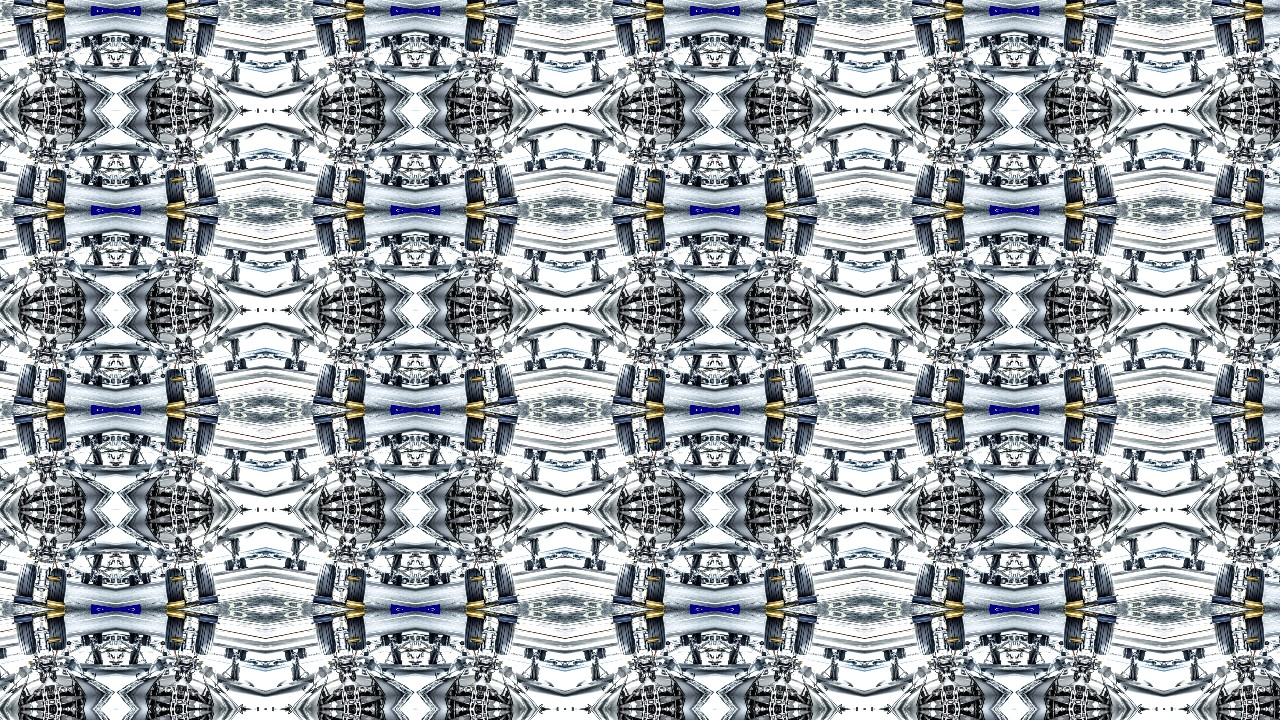chock: (45, 0, 66, 10), (164, 0, 185, 10), (345, 0, 366, 10), (464, 0, 485, 10), (645, 0, 666, 10), (764, 0, 785, 10), (945, 0, 966, 10), (1064, 0, 1085, 10), (1245, 0, 1266, 10), (45, 10, 66, 20), (164, 10, 185, 20), (345, 10, 366, 20), (464, 10, 485, 20), (645, 10, 666, 20), (764, 10, 785, 20), (945, 10, 966, 20), (1064, 10, 1085, 20), (1245, 10, 1266, 20), (45, 200, 66, 210), (164, 200, 185, 210), (345, 200, 366, 210), (464, 200, 485, 210), (645, 200, 666, 210), (764, 200, 785, 210), (945, 200, 966, 210), (1064, 200, 1085, 210), (1245, 200, 1266, 210), (45, 210, 66, 220), (164, 210, 185, 220), (345, 210, 366, 220), (464, 210, 485, 220), (645, 210, 666, 220), (764, 210, 785, 220), (945, 210, 966, 220), (1064, 210, 1085, 220), (1245, 210, 1266, 220), (45, 400, 66, 410), (164, 400, 185, 410), (345, 400, 366, 410), (464, 400, 485, 410), (645, 400, 666, 410), (764, 400, 785, 410), (945, 400, 966, 410), (1064, 400, 1085, 410), (1245, 400, 1266, 410), (45, 410, 66, 420), (164, 410, 185, 420), (345, 410, 366, 420), (464, 410, 485, 420), (645, 410, 666, 420), (764, 410, 785, 420), (945, 410, 966, 420), (1064, 410, 1085, 420), (1245, 410, 1266, 420), (45, 600, 66, 610), (164, 600, 185, 610), (345, 600, 366, 610), (464, 600, 485, 610), (645, 600, 666, 610), (764, 600, 785, 610), (945, 600, 966, 610), (1064, 600, 1085, 610), (1245, 600, 1266, 610), (45, 610, 66, 620), (164, 610, 185, 620), (345, 610, 366, 620), (464, 610, 485, 620), (645, 610, 666, 620), (764, 610, 785, 620), (945, 610, 966, 620), (1064, 610, 1085, 620), (1245, 610, 1266, 620), (12, 15, 32, 25), (198, 15, 218, 25), (312, 15, 332, 25), (498, 15, 518, 25), (612, 15, 632, 25), (798, 15, 818, 25), (912, 15, 932, 25), (1098, 15, 1118, 25), (1212, 15, 1232, 25), (12, 195, 32, 205), (198, 195, 218, 205), (312, 195, 332, 205), (498, 195, 518, 205), (612, 195, 632, 205), (798, 195, 818, 205), (912, 195, 932, 205), (1098, 195, 1118, 205), (1212, 195, 1232, 205), (12, 215, 32, 225), (198, 215, 218, 225), (312, 215, 332, 225), (498, 215, 518, 225), (612, 215, 632, 225), (798, 215, 818, 225), (912, 215, 932, 225), (1098, 215, 1118, 225), (1212, 215, 1232, 225), (12, 395, 32, 405), (198, 395, 218, 405), (312, 395, 332, 405), (498, 395, 518, 405), (612, 395, 632, 405), (798, 395, 818, 405), (912, 395, 932, 405), (1098, 395, 1118, 405), (1212, 395, 1232, 405), (12, 415, 32, 425), (198, 415, 218, 425), (312, 415, 332, 425), (498, 415, 518, 425), (612, 415, 632, 425), (798, 415, 818, 425), (912, 415, 932, 425), (1098, 415, 1118, 425), (1212, 415, 1232, 425), (12, 595, 32, 605), (198, 595, 218, 605), (312, 595, 332, 605), (498, 595, 518, 605), (612, 595, 632, 605), (798, 595, 818, 605), (912, 595, 932, 605), (1098, 595, 1118, 605), (1212, 595, 1232, 605), (12, 615, 32, 625), (198, 615, 218, 625), (312, 615, 332, 625), (498, 615, 518, 625), (612, 615, 632, 625), (798, 615, 818, 625), (912, 615, 932, 625), (1098, 615, 1118, 625), (1212, 615, 1232, 625), (12, 0, 32, 5), (198, 0, 218, 5), (312, 0, 332, 5), (498, 0, 518, 5), (612, 0, 632, 5), (798, 0, 818, 5), (912, 0, 932, 5), (1098, 0, 1118, 5), (1212, 0, 1232, 5), (46, 37, 60, 44), (170, 37, 184, 44), (346, 37, 360, 44), (470, 37, 484, 44), (646, 37, 660, 44), (770, 37, 784, 44), (946, 37, 960, 44), (1070, 37, 1084, 44), (1246, 37, 1260, 44), (46, 176, 60, 183), (170, 176, 184, 183), (346, 176, 360, 183), (470, 176, 484, 183), (646, 176, 660, 183), (770, 176, 784, 183), (946, 176, 960, 183), (1070, 176, 1084, 183), (1246, 176, 1260, 183), (46, 237, 60, 244), (170, 237, 184, 244), (346, 237, 360, 244), (470, 237, 484, 244), (646, 237, 660, 244), (770, 237, 784, 244), (946, 237, 960, 244), (1070, 237, 1084, 244), (1246, 237, 1260, 244), (46, 376, 60, 383), (170, 376, 184, 383), (346, 376, 360, 383), (470, 376, 484, 383), (646, 376, 660, 383), (770, 376, 784, 383), (946, 376, 960, 383), (1070, 376, 1084, 383), (1246, 376, 1260, 383), (46, 437, 60, 444), (170, 437, 184, 444), (346, 437, 360, 444), (470, 437, 484, 444), (646, 437, 660, 444), (770, 437, 784, 444), (946, 437, 960, 444), (1070, 437, 1084, 444), (1246, 437, 1260, 444), (46, 576, 60, 583), (170, 576, 184, 583), (346, 576, 360, 583), (470, 576, 484, 583), (646, 576, 660, 583), (770, 576, 784, 583), (946, 576, 960, 583), (1070, 576, 1084, 583), (1246, 576, 1260, 583), (46, 637, 60, 644), (170, 637, 184, 644), (346, 637, 360, 644), (470, 637, 484, 644), (646, 637, 660, 644), (770, 637, 784, 644), (946, 637, 960, 644), (1070, 637, 1084, 644), (1246, 637, 1260, 644), (240, 50, 248, 53), (282, 50, 290, 53), (540, 50, 548, 53), (582, 50, 590, 53), (840, 50, 848, 53), (882, 50, 890, 53), (1140, 50, 1148, 53), (1182, 50, 1190, 53), (240, 167, 248, 170), (282, 167, 290, 170), (540, 167, 548, 170), (582, 167, 590, 170), (840, 167, 848, 170), (882, 167, 890, 170), (1140, 167, 1148, 170), (1182, 167, 1190, 170), (240, 250, 248, 253), (282, 250, 290, 253), (540, 250, 548, 253), (582, 250, 590, 253), (840, 250, 848, 253), (882, 250, 890, 253), (1140, 250, 1148, 253), (1182, 250, 1190, 253), (240, 367, 248, 370), (282, 367, 290, 370), (540, 367, 548, 370), (582, 367, 590, 370), (840, 367, 848, 370), (882, 367, 890, 370), (1140, 367, 1148, 370), (1182, 367, 1190, 370), (240, 450, 248, 453), (282, 450, 290, 453), (540, 450, 548, 453), (582, 450, 590, 453), (840, 450, 848, 453), (882, 450, 890, 453), (1140, 450, 1148, 453), (1182, 450, 1190, 453), (240, 567, 248, 570), (282, 567, 290, 570), (540, 567, 548, 570), (582, 567, 590, 570), (840, 567, 848, 570), (882, 567, 890, 570), (1140, 567, 1148, 570), (1182, 567, 1190, 570), (240, 650, 248, 653), (282, 650, 290, 653), (540, 650, 548, 653), (582, 650, 590, 653), (840, 650, 848, 653), (882, 650, 890, 653), (1140, 650, 1148, 653), (1182, 650, 1190, 653), (95, 33, 102, 36), (128, 33, 135, 36), (395, 33, 402, 36), (428, 33, 435, 36), (695, 33, 702, 36), (728, 33, 735, 36), (995, 33, 1002, 36), (1028, 33, 1035, 36), (95, 184, 102, 187), (128, 184, 135, 187), (395, 184, 402, 187), (428, 184, 435, 187), (695, 184, 702, 187), (728, 184, 735, 187), (995, 184, 1002, 187), (1028, 184, 1035, 187), (95, 233, 102, 236), (128, 233, 135, 236), (395, 233, 402, 236), (428, 233, 435, 236), (695, 233, 702, 236), (728, 233, 735, 236), (995, 233, 1002, 236), (1028, 233, 1035, 236), (95, 384, 102, 387), (128, 384, 135, 387), (395, 384, 402, 387), (428, 384, 435, 387), (695, 384, 702, 387), (728, 384, 735, 387), (995, 384, 1002, 387), (1028, 384, 1035, 387), (95, 433, 102, 436), (128, 433, 135, 436), (395, 433, 402, 436), (428, 433, 435, 436), (695, 433, 702, 436), (728, 433, 735, 436), (995, 433, 1002, 436), (1028, 433, 1035, 436), (95, 584, 102, 587), (128, 584, 135, 587), (395, 584, 402, 587), (428, 584, 435, 587), (695, 584, 702, 587), (728, 584, 735, 587), (995, 584, 1002, 587), (1028, 584, 1035, 587), (95, 633, 102, 636), (128, 633, 135, 636), (395, 633, 402, 636), (428, 633, 435, 636), (695, 633, 702, 636), (728, 633, 735, 636), (995, 633, 1002, 636), (1028, 633, 1035, 636)
wheel: (13, 15, 38, 57), (192, 15, 217, 57), (313, 15, 338, 57), (492, 15, 517, 57), (613, 15, 638, 57), (792, 15, 817, 57), (913, 15, 938, 57), (1092, 15, 1117, 57), (1213, 15, 1238, 57), (13, 163, 38, 205), (192, 163, 217, 205), (313, 163, 338, 205), (492, 163, 517, 205), (613, 163, 638, 205), (792, 163, 817, 205), (913, 163, 938, 205), (1092, 163, 1117, 205), (1213, 163, 1238, 205), (13, 215, 38, 257), (192, 215, 217, 257), (313, 215, 338, 257), (492, 215, 517, 257), (613, 215, 638, 257), (792, 215, 817, 257), (913, 215, 938, 257), (1092, 215, 1117, 257), (1213, 215, 1238, 257), (13, 363, 38, 405), (192, 363, 217, 405), (313, 363, 338, 405), (492, 363, 517, 405), (613, 363, 638, 405), (792, 363, 817, 405), (913, 363, 938, 405), (1092, 363, 1117, 405), (1213, 363, 1238, 405), (13, 415, 38, 457), (192, 415, 217, 457), (313, 415, 338, 457), (492, 415, 517, 457), (613, 415, 638, 457), (792, 415, 817, 457), (913, 415, 938, 457), (1092, 415, 1117, 457), (1213, 415, 1238, 457), (13, 563, 38, 605), (192, 563, 217, 605), (313, 563, 338, 605), (492, 563, 517, 605), (613, 563, 638, 605), (792, 563, 817, 605), (913, 563, 938, 605), (1092, 563, 1117, 605), (1213, 563, 1238, 605), (13, 615, 38, 657), (192, 615, 217, 657), (313, 615, 338, 657), (492, 615, 517, 657), (613, 615, 638, 657), (792, 615, 817, 657), (913, 615, 938, 657), (1092, 615, 1117, 657), (1213, 615, 1238, 657), (45, 13, 69, 52), (161, 13, 185, 52), (345, 13, 369, 52), (461, 13, 485, 52), (645, 13, 669, 52), (761, 13, 785, 52), (945, 13, 969, 52), (1061, 13, 1085, 52), (1245, 13, 1269, 52), (45, 168, 69, 207), (161, 168, 185, 207), (345, 168, 369, 207), (461, 168, 485, 207), (645, 168, 669, 207), (761, 168, 785, 207), (945, 168, 969, 207), (1061, 168, 1085, 207), (1245, 168, 1269, 207), (45, 213, 69, 252), (161, 213, 185, 252), (345, 213, 369, 252), (461, 213, 485, 252), (645, 213, 669, 252), (761, 213, 785, 252), (945, 213, 969, 252), (1061, 213, 1085, 252), (1245, 213, 1269, 252), (45, 368, 69, 407), (161, 368, 185, 407), (345, 368, 369, 407), (461, 368, 485, 407), (645, 368, 669, 407), (761, 368, 785, 407), (945, 368, 969, 407), (1061, 368, 1085, 407), (1245, 368, 1269, 407), (45, 413, 69, 452), (161, 413, 185, 452), (345, 413, 369, 452), (461, 413, 485, 452), (645, 413, 669, 452), (761, 413, 785, 452), (945, 413, 969, 452), (1061, 413, 1085, 452), (1245, 413, 1269, 452), (45, 568, 69, 607), (161, 568, 185, 607), (345, 568, 369, 607), (461, 568, 485, 607), (645, 568, 669, 607), (761, 568, 785, 607), (945, 568, 969, 607), (1061, 568, 1085, 607), (1245, 568, 1269, 607), (45, 613, 69, 652), (161, 613, 185, 652), (345, 613, 369, 652), (461, 613, 485, 652), (645, 613, 669, 652), (761, 613, 785, 652), (945, 613, 969, 652), (1061, 613, 1085, 652), (1245, 613, 1269, 652), (45, 0, 69, 7), (161, 0, 185, 7), (345, 0, 369, 7), (461, 0, 485, 7), (645, 0, 669, 7), (761, 0, 785, 7), (945, 0, 969, 7), (1061, 0, 1085, 7), (1245, 0, 1269, 7), (91, 34, 103, 46), (127, 34, 139, 46), (391, 34, 403, 46), (427, 34, 439, 46), (691, 34, 703, 46), (727, 34, 739, 46), (991, 34, 1003, 46), (1027, 34, 1039, 46), (91, 174, 103, 186), (127, 174, 139, 186), (391, 174, 403, 186), (427, 174, 439, 186), (691, 174, 703, 186), (727, 174, 739, 186), (991, 174, 1003, 186), (1027, 174, 1039, 186), (91, 234, 103, 246), (127, 234, 139, 246), (391, 234, 403, 246), (427, 234, 439, 246), (691, 234, 703, 246), (727, 234, 739, 246), (991, 234, 1003, 246), (1027, 234, 1039, 246), (91, 374, 103, 386), (127, 374, 139, 386), (391, 374, 403, 386), (427, 374, 439, 386), (691, 374, 703, 386), (727, 374, 739, 386), (991, 374, 1003, 386), (1027, 374, 1039, 386), (91, 434, 103, 446), (127, 434, 139, 446), (391, 434, 403, 446), (427, 434, 439, 446), (691, 434, 703, 446), (727, 434, 739, 446), (991, 434, 1003, 446), (1027, 434, 1039, 446), (91, 574, 103, 586), (127, 574, 139, 586), (391, 574, 403, 586), (427, 574, 439, 586), (691, 574, 703, 586), (727, 574, 739, 586), (991, 574, 1003, 586), (1027, 574, 1039, 586), (91, 634, 103, 646), (127, 634, 139, 646), (391, 634, 403, 646), (427, 634, 439, 646), (691, 634, 703, 646), (727, 634, 739, 646), (991, 634, 1003, 646), (1027, 634, 1039, 646), (236, 50, 246, 63), (284, 50, 294, 63), (536, 50, 546, 63), (584, 50, 594, 63), (836, 50, 846, 63), (884, 50, 894, 63), (1136, 50, 1146, 63), (1184, 50, 1194, 63), (236, 157, 246, 170), (284, 157, 294, 170), (536, 157, 546, 170), (584, 157, 594, 170), (836, 157, 846, 170), (884, 157, 894, 170), (1136, 157, 1146, 170), (1184, 157, 1194, 170), (236, 250, 246, 263), (284, 250, 294, 263), (536, 250, 546, 263), (584, 250, 594, 263), (836, 250, 846, 263), (884, 250, 894, 263), (1136, 250, 1146, 263), (1184, 250, 1194, 263), (236, 357, 246, 370), (284, 357, 294, 370), (536, 357, 546, 370), (584, 357, 594, 370), (836, 357, 846, 370), (884, 357, 894, 370), (1136, 357, 1146, 370), (1184, 357, 1194, 370), (236, 450, 246, 463), (284, 450, 294, 463), (536, 450, 546, 463), (584, 450, 594, 463), (836, 450, 846, 463), (884, 450, 894, 463), (1136, 450, 1146, 463), (1184, 450, 1194, 463), (236, 557, 246, 570), (284, 557, 294, 570), (536, 557, 546, 570), (584, 557, 594, 570), (836, 557, 846, 570), (884, 557, 894, 570), (1136, 557, 1146, 570), (1184, 557, 1194, 570), (236, 650, 246, 663), (284, 650, 294, 663), (536, 650, 546, 663), (584, 650, 594, 663), (836, 650, 846, 663), (884, 650, 894, 663), (1136, 650, 1146, 663), (1184, 650, 1194, 663), (13, 0, 38, 5), (192, 0, 217, 5), (313, 0, 338, 5), (492, 0, 517, 5), (613, 0, 638, 5), (792, 0, 817, 5), (913, 0, 938, 5), (1092, 0, 1117, 5), (1213, 0, 1238, 5), (80, 36, 90, 48), (140, 36, 150, 48), (223, 48, 233, 60), (380, 36, 390, 48), (297, 48, 307, 60), (440, 36, 450, 48), (523, 48, 533, 60), (680, 36, 690, 48), (597, 48, 607, 60), (740, 36, 750, 48), (823, 48, 833, 60), (980, 36, 990, 48), (897, 48, 907, 60), (1040, 36, 1050, 48), (1123, 48, 1133, 60), (1197, 48, 1207, 60), (80, 172, 90, 184), (140, 172, 150, 184), (223, 160, 233, 172), (380, 172, 390, 184), (297, 160, 307, 172), (440, 172, 450, 184), (523, 160, 533, 172), (680, 172, 690, 184), (597, 160, 607, 172), (740, 172, 750, 184), (823, 160, 833, 172), (980, 172, 990, 184), (897, 160, 907, 172), (1040, 172, 1050, 184), (1123, 160, 1133, 172), (1197, 160, 1207, 172), (80, 236, 90, 248), (140, 236, 150, 248), (223, 248, 233, 260), (380, 236, 390, 248), (297, 248, 307, 260), (440, 236, 450, 248), (523, 248, 533, 260), (680, 236, 690, 248), (597, 248, 607, 260), (740, 236, 750, 248), (823, 248, 833, 260), (980, 236, 990, 248), (897, 248, 907, 260), (1040, 236, 1050, 248), (1123, 248, 1133, 260), (1197, 248, 1207, 260), (80, 372, 90, 384), (140, 372, 150, 384), (223, 360, 233, 372), (380, 372, 390, 384), (297, 360, 307, 372), (440, 372, 450, 384), (523, 360, 533, 372), (680, 372, 690, 384), (597, 360, 607, 372), (740, 372, 750, 384), (823, 360, 833, 372), (980, 372, 990, 384), (897, 360, 907, 372), (1040, 372, 1050, 384), (1123, 360, 1133, 372), (1197, 360, 1207, 372), (80, 436, 90, 448), (140, 436, 150, 448), (223, 448, 233, 460), (380, 436, 390, 448), (297, 448, 307, 460), (440, 436, 450, 448), (523, 448, 533, 460), (680, 436, 690, 448), (597, 448, 607, 460), (740, 436, 750, 448), (823, 448, 833, 460), (980, 436, 990, 448), (897, 448, 907, 460), (1040, 436, 1050, 448), (1123, 448, 1133, 460), (1197, 448, 1207, 460), (80, 572, 90, 584), (140, 572, 150, 584), (223, 560, 233, 572), (380, 572, 390, 584), (297, 560, 307, 572), (440, 572, 450, 584), (523, 560, 533, 572), (680, 572, 690, 584), (597, 560, 607, 572), (740, 572, 750, 584), (823, 560, 833, 572), (980, 572, 990, 584), (897, 560, 907, 572), (1040, 572, 1050, 584), (1123, 560, 1133, 572), (1197, 560, 1207, 572), (80, 636, 90, 648), (140, 636, 150, 648), (223, 648, 233, 660), (380, 636, 390, 648), (297, 648, 307, 660), (440, 636, 450, 648), (523, 648, 533, 660), (680, 636, 690, 648), (597, 648, 607, 660), (740, 636, 750, 648), (823, 648, 833, 660), (980, 636, 990, 648), (897, 648, 907, 660), (1040, 636, 1050, 648), (1123, 648, 1133, 660), (1197, 648, 1207, 660), (0, 48, 7, 60), (0, 160, 7, 172), (0, 248, 7, 260), (0, 360, 7, 372), (0, 448, 7, 460), (0, 560, 7, 572), (0, 648, 7, 660), (234, 51, 241, 61), (289, 51, 296, 61), (534, 51, 541, 61), (589, 51, 596, 61), (834, 51, 841, 61), (889, 51, 896, 61), (1134, 51, 1141, 61), (1189, 51, 1196, 61), (234, 159, 241, 169), (289, 159, 296, 169), (534, 159, 541, 169), (589, 159, 596, 169), (834, 159, 841, 169), (889, 159, 896, 169), (1134, 159, 1141, 169), (1189, 159, 1196, 169), (234, 251, 241, 261), (289, 251, 296, 261), (534, 251, 541, 261), (589, 251, 596, 261), (834, 251, 841, 261), (889, 251, 896, 261), (1134, 251, 1141, 261), (1189, 251, 1196, 261), (234, 359, 241, 369), (289, 359, 296, 369), (534, 359, 541, 369), (589, 359, 596, 369), (834, 359, 841, 369), (889, 359, 896, 369), (1134, 359, 1141, 369), (1189, 359, 1196, 369), (234, 451, 241, 461), (289, 451, 296, 461), (534, 451, 541, 461), (589, 451, 596, 461), (834, 451, 841, 461), (889, 451, 896, 461), (1134, 451, 1141, 461), (1189, 451, 1196, 461), (234, 559, 241, 569), (289, 559, 296, 569), (534, 559, 541, 569), (589, 559, 596, 569), (834, 559, 841, 569), (889, 559, 896, 569), (1134, 559, 1141, 569), (1189, 559, 1196, 569), (234, 651, 241, 661), (289, 651, 296, 661), (534, 651, 541, 661), (589, 651, 596, 661), (834, 651, 841, 661), (889, 651, 896, 661), (1134, 651, 1141, 661), (1189, 651, 1196, 661), (46, 41, 51, 53), (179, 41, 184, 53), (346, 41, 351, 53), (479, 41, 484, 53), (646, 41, 651, 53), (779, 41, 784, 53), (946, 41, 951, 53), (1079, 41, 1084, 53), (1246, 41, 1251, 53), (46, 167, 51, 179), (179, 167, 184, 179), (346, 167, 351, 179), (479, 167, 484, 179), (646, 167, 651, 179), (779, 167, 784, 179), (946, 167, 951, 179), (1079, 167, 1084, 179), (1246, 167, 1251, 179), (46, 241, 51, 253), (179, 241, 184, 253), (346, 241, 351, 253), (479, 241, 484, 253), (646, 241, 651, 253), (779, 241, 784, 253), (946, 241, 951, 253), (1079, 241, 1084, 253), (1246, 241, 1251, 253), (46, 367, 51, 379), (179, 367, 184, 379), (346, 367, 351, 379), (479, 367, 484, 379), (646, 367, 651, 379), (779, 367, 784, 379), (946, 367, 951, 379), (1079, 367, 1084, 379), (1246, 367, 1251, 379), (46, 441, 51, 453), (179, 441, 184, 453), (346, 441, 351, 453), (479, 441, 484, 453), (646, 441, 651, 453), (779, 441, 784, 453), (946, 441, 951, 453), (1079, 441, 1084, 453), (1246, 441, 1251, 453), (46, 567, 51, 579), (179, 567, 184, 579), (346, 567, 351, 579), (479, 567, 484, 579), (646, 567, 651, 579), (779, 567, 784, 579), (946, 567, 951, 579), (1079, 567, 1084, 579), (1246, 567, 1251, 579), (46, 641, 51, 653), (179, 641, 184, 653), (346, 641, 351, 653), (479, 641, 484, 653), (646, 641, 651, 653), (779, 641, 784, 653), (946, 641, 951, 653), (1079, 641, 1084, 653), (1246, 641, 1251, 653), (101, 35, 109, 42), (121, 35, 129, 42), (401, 35, 409, 42), (421, 35, 429, 42), (701, 35, 709, 42), (721, 35, 729, 42), (1001, 35, 1009, 42), (1021, 35, 1029, 42), (101, 178, 109, 185), (121, 178, 129, 185), (401, 178, 409, 185), (421, 178, 429, 185), (701, 178, 709, 185), (721, 178, 729, 185), (1001, 178, 1009, 185), (1021, 178, 1029, 185), (101, 235, 109, 242), (121, 235, 129, 242), (401, 235, 409, 242), (421, 235, 429, 242), (701, 235, 709, 242), (721, 235, 729, 242), (1001, 235, 1009, 242), (1021, 235, 1029, 242), (101, 378, 109, 385), (121, 378, 129, 385), (401, 378, 409, 385), (421, 378, 429, 385), (701, 378, 709, 385), (721, 378, 729, 385), (1001, 378, 1009, 385), (1021, 378, 1029, 385), (101, 435, 109, 442), (121, 435, 129, 442), (401, 435, 409, 442), (421, 435, 429, 442), (701, 435, 709, 442), (721, 435, 729, 442), (1001, 435, 1009, 442), (1021, 435, 1029, 442), (101, 578, 109, 585), (121, 578, 129, 585), (401, 578, 409, 585), (421, 578, 429, 585), (701, 578, 709, 585), (721, 578, 729, 585), (1001, 578, 1009, 585), (1021, 578, 1029, 585), (101, 635, 109, 642), (121, 635, 129, 642), (401, 635, 409, 642), (421, 635, 429, 642), (701, 635, 709, 642), (721, 635, 729, 642), (1001, 635, 1009, 642), (1021, 635, 1029, 642), (2, 49, 7, 59), (79, 37, 84, 47), (92, 35, 97, 45), (223, 49, 228, 59), (146, 37, 151, 47), (133, 35, 138, 45), (302, 49, 307, 59), (379, 37, 384, 47), (392, 35, 397, 45), (523, 49, 528, 59), (446, 37, 451, 47), (433, 35, 438, 45), (602, 49, 607, 59), (679, 37, 684, 47), (692, 35, 697, 45), (823, 49, 828, 59), (746, 37, 751, 47), (733, 35, 738, 45), (902, 49, 907, 59), (979, 37, 984, 47), (992, 35, 997, 45), (1123, 49, 1128, 59), (1046, 37, 1051, 47), (1033, 35, 1038, 45), (1202, 49, 1207, 59), (2, 161, 7, 171), (79, 173, 84, 183), (92, 175, 97, 185), (223, 161, 228, 171), (146, 173, 151, 183), (133, 175, 138, 185), (302, 161, 307, 171), (379, 173, 384, 183), (392, 175, 397, 185), (523, 161, 528, 171), (446, 173, 451, 183), (433, 175, 438, 185), (602, 161, 607, 171), (679, 173, 684, 183), (692, 175, 697, 185), (823, 161, 828, 171), (746, 173, 751, 183), (733, 175, 738, 185), (902, 161, 907, 171), (979, 173, 984, 183), (992, 175, 997, 185), (1123, 161, 1128, 171), (1046, 173, 1051, 183), (1033, 175, 1038, 185), (1202, 161, 1207, 171), (2, 249, 7, 259), (79, 237, 84, 247), (92, 235, 97, 245), (223, 249, 228, 259), (146, 237, 151, 247), (133, 235, 138, 245), (302, 249, 307, 259), (379, 237, 384, 247), (392, 235, 397, 245), (523, 249, 528, 259), (446, 237, 451, 247), (433, 235, 438, 245), (602, 249, 607, 259), (679, 237, 684, 247), (692, 235, 697, 245), (823, 249, 828, 259), (746, 237, 751, 247), (733, 235, 738, 245), (902, 249, 907, 259), (979, 237, 984, 247), (992, 235, 997, 245), (1123, 249, 1128, 259), (1046, 237, 1051, 247), (1033, 235, 1038, 245), (1202, 249, 1207, 259), (2, 361, 7, 371), (79, 373, 84, 383), (92, 375, 97, 385), (223, 361, 228, 371), (146, 373, 151, 383), (133, 375, 138, 385), (302, 361, 307, 371), (379, 373, 384, 383), (392, 375, 397, 385), (523, 361, 528, 371), (446, 373, 451, 383), (433, 375, 438, 385), (602, 361, 607, 371), (679, 373, 684, 383), (692, 375, 697, 385), (823, 361, 828, 371), (746, 373, 751, 383), (733, 375, 738, 385), (902, 361, 907, 371), (979, 373, 984, 383), (992, 375, 997, 385), (1123, 361, 1128, 371), (1046, 373, 1051, 383), (1033, 375, 1038, 385), (1202, 361, 1207, 371), (2, 449, 7, 459), (79, 437, 84, 447), (92, 435, 97, 445), (223, 449, 228, 459), (146, 437, 151, 447), (133, 435, 138, 445), (302, 449, 307, 459), (379, 437, 384, 447), (392, 435, 397, 445), (523, 449, 528, 459), (446, 437, 451, 447), (433, 435, 438, 445), (602, 449, 607, 459), (679, 437, 684, 447), (692, 435, 697, 445), (823, 449, 828, 459), (746, 437, 751, 447), (733, 435, 738, 445), (902, 449, 907, 459), (979, 437, 984, 447), (992, 435, 997, 445), (1123, 449, 1128, 459), (1046, 437, 1051, 447), (1033, 435, 1038, 445), (1202, 449, 1207, 459), (2, 561, 7, 571), (79, 573, 84, 583), (92, 575, 97, 585), (223, 561, 228, 571), (146, 573, 151, 583), (133, 575, 138, 585), (302, 561, 307, 571), (379, 573, 384, 583), (392, 575, 397, 585), (523, 561, 528, 571), (446, 573, 451, 583), (433, 575, 438, 585), (602, 561, 607, 571), (679, 573, 684, 583), (692, 575, 697, 585), (823, 561, 828, 571), (746, 573, 751, 583), (733, 575, 738, 585), (902, 561, 907, 571), (979, 573, 984, 583), (992, 575, 997, 585), (1123, 561, 1128, 571), (1046, 573, 1051, 583), (1033, 575, 1038, 585), (1202, 561, 1207, 571), (2, 649, 7, 659), (79, 637, 84, 647), (92, 635, 97, 645), (223, 649, 228, 659), (146, 637, 151, 647), (133, 635, 138, 645), (302, 649, 307, 659), (379, 637, 384, 647), (392, 635, 397, 645), (523, 649, 528, 659), (446, 637, 451, 647), (433, 635, 438, 645), (602, 649, 607, 659), (679, 637, 684, 647), (692, 635, 697, 645), (823, 649, 828, 659), (746, 637, 751, 647), (733, 635, 738, 645), (902, 649, 907, 659), (979, 637, 984, 647), (992, 635, 997, 645), (1123, 649, 1128, 659), (1046, 637, 1051, 647), (1033, 635, 1038, 645), (1202, 649, 1207, 659), (36, 43, 40, 54), (190, 43, 194, 54), (336, 43, 340, 54), (490, 43, 494, 54), (636, 43, 640, 54), (790, 43, 794, 54), (936, 43, 940, 54), (1090, 43, 1094, 54), (1236, 43, 1240, 54), (36, 166, 40, 177), (190, 166, 194, 177), (336, 166, 340, 177), (490, 166, 494, 177), (636, 166, 640, 177), (790, 166, 794, 177), (936, 166, 940, 177), (1090, 166, 1094, 177), (1236, 166, 1240, 177), (36, 243, 40, 254), (190, 243, 194, 254), (336, 243, 340, 254), (490, 243, 494, 254), (636, 243, 640, 254), (790, 243, 794, 254), (936, 243, 940, 254), (1090, 243, 1094, 254), (1236, 243, 1240, 254), (36, 366, 40, 377), (190, 366, 194, 377), (336, 366, 340, 377), (490, 366, 494, 377), (636, 366, 640, 377), (790, 366, 794, 377), (936, 366, 940, 377), (1090, 366, 1094, 377), (1236, 366, 1240, 377), (36, 443, 40, 454), (190, 443, 194, 454), (336, 443, 340, 454), (490, 443, 494, 454), (636, 443, 640, 454), (790, 443, 794, 454), (936, 443, 940, 454), (1090, 443, 1094, 454), (1236, 443, 1240, 454), (36, 566, 40, 577), (190, 566, 194, 577), (336, 566, 340, 577), (490, 566, 494, 577), (636, 566, 640, 577), (790, 566, 794, 577), (936, 566, 940, 577), (1090, 566, 1094, 577), (1236, 566, 1240, 577), (36, 643, 40, 654), (190, 643, 194, 654), (336, 643, 340, 654), (490, 643, 494, 654), (636, 643, 640, 654), (790, 643, 794, 654), (936, 643, 940, 654), (1090, 643, 1094, 654), (1236, 643, 1240, 654), (66, 42, 70, 46), (160, 42, 164, 46), (366, 42, 370, 46), (460, 42, 464, 46), (666, 42, 670, 46), (760, 42, 764, 46), (966, 42, 970, 46), (1060, 42, 1064, 46), (1266, 42, 1270, 46), (66, 174, 70, 178), (160, 174, 164, 178), (366, 174, 370, 178), (460, 174, 464, 178), (666, 174, 670, 178), (760, 174, 764, 178), (966, 174, 970, 178), (1060, 174, 1064, 178), (1266, 174, 1270, 178), (66, 242, 70, 246), (160, 242, 164, 246), (366, 242, 370, 246), (460, 242, 464, 246), (666, 242, 670, 246), (760, 242, 764, 246), (966, 242, 970, 246), (1060, 242, 1064, 246), (1266, 242, 1270, 246), (66, 374, 70, 378), (160, 374, 164, 378), (366, 374, 370, 378), (460, 374, 464, 378), (666, 374, 670, 378), (760, 374, 764, 378), (966, 374, 970, 378), (1060, 374, 1064, 378), (1266, 374, 1270, 378), (66, 442, 70, 446), (160, 442, 164, 446), (366, 442, 370, 446), (460, 442, 464, 446), (666, 442, 670, 446), (760, 442, 764, 446), (966, 442, 970, 446), (1060, 442, 1064, 446), (1266, 442, 1270, 446), (66, 574, 70, 578), (160, 574, 164, 578), (366, 574, 370, 578), (460, 574, 464, 578), (666, 574, 670, 578), (760, 574, 764, 578), (966, 574, 970, 578), (1060, 574, 1064, 578), (1266, 574, 1270, 578), (66, 642, 70, 646), (160, 642, 164, 646), (366, 642, 370, 646), (460, 642, 464, 646), (666, 642, 670, 646), (760, 642, 764, 646), (966, 642, 970, 646), (1060, 642, 1064, 646), (1266, 642, 1270, 646), (1279, 37, 1280, 47), (1279, 173, 1280, 183), (1279, 237, 1280, 247), (1279, 373, 1280, 383), (1279, 437, 1280, 447), (1279, 573, 1280, 583), (1279, 637, 1280, 647)
